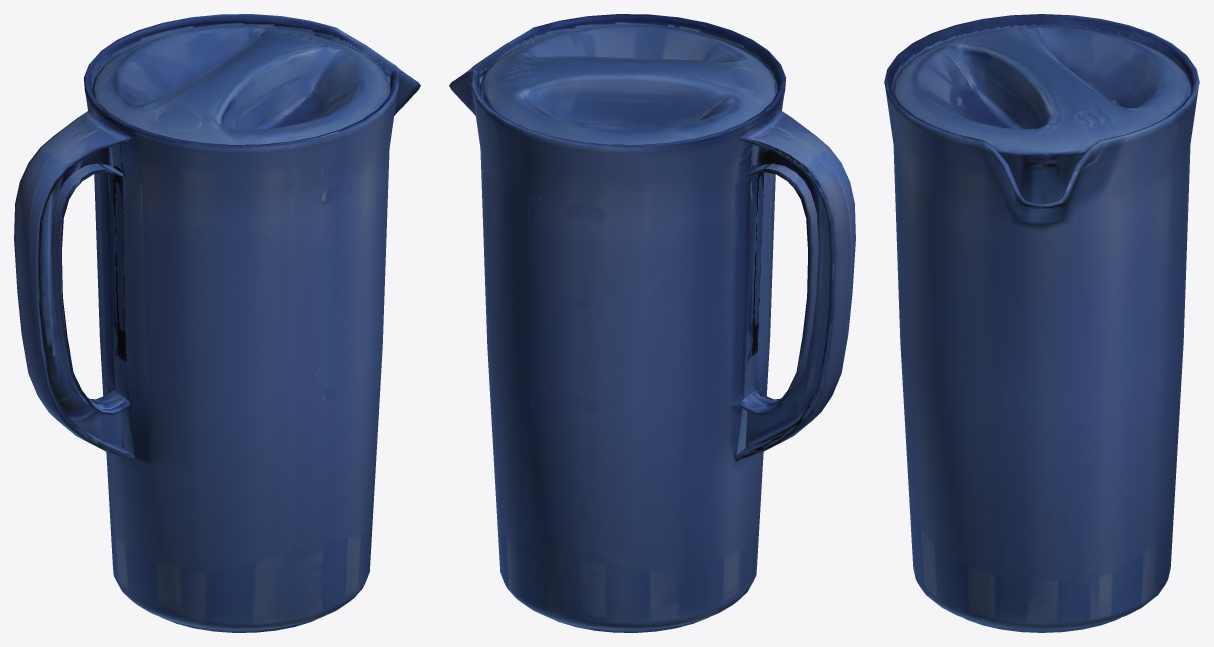
Rendered from 019_pitcher_base.dae.
3 renders of one model, left to right at view 1: azimuth 30°, elevation 25°; view 2: azimuth 150°, elevation 25°; view 3: azimuth 270°, elevation 25°, orthographic.
Parts seen in each view (by area): view 1: 019_pitcher_base; view 2: 019_pitcher_base; view 3: 019_pitcher_base.
Part boxes in pixels (x1,y1,x2,y2): 019_pitcher_base: (14,14,420,632); 019_pitcher_base: (449,14,855,632); 019_pitcher_base: (884,14,1199,632).
Size of the model in its own units: 0.1888 by 0.1322 by 0.2422.
Materials: 1 (1 with a texture image).
